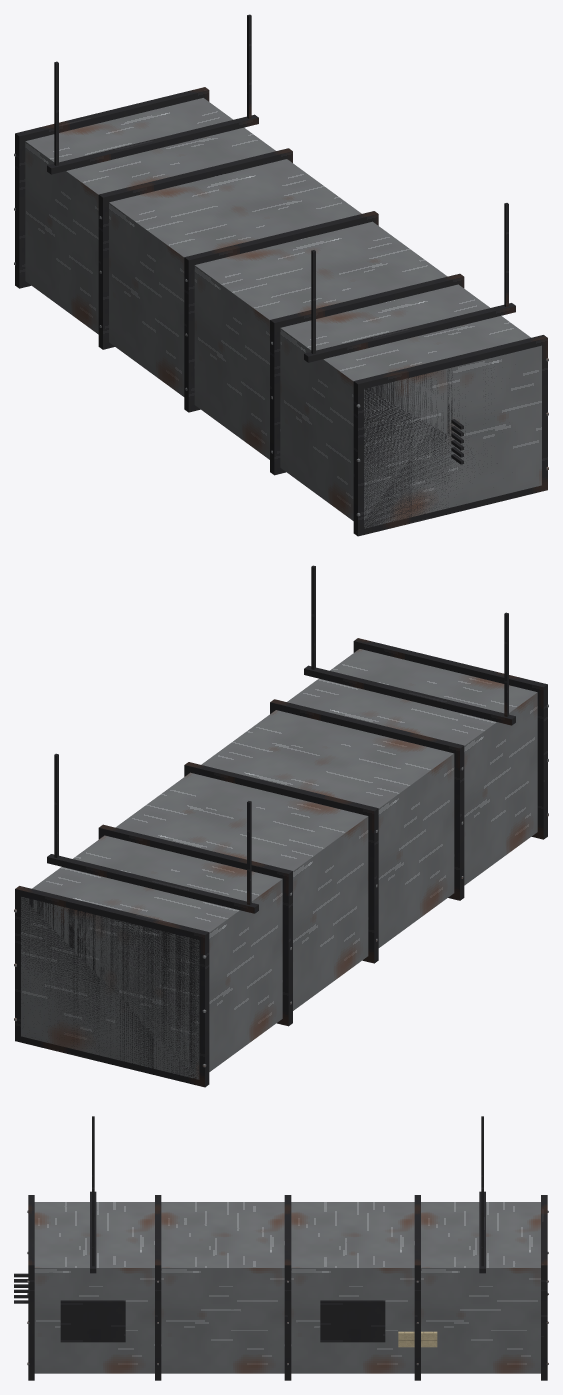
Rendered from vent_duct.glb.
3 views of the same model, one above another, from view 1: azimuth 30°, elevation 25°; view 2: azimuth 150°, elevation 25°; view 3: azimuth 270°, elevation 25° (orthographic). The views are drawn at different scales.
Visible parts, largest first — view 1: vent_duct; view 2: vent_duct; view 3: vent_duct.
Part boxes in pixels (left/top/right/bottom): vent_duct: left=14, top=14, right=548, bottom=536; vent_duct: left=14, top=565, right=548, bottom=1087; vent_duct: left=14, top=1116, right=548, bottom=1380.
Size of the model in its own units: 1.4 by 1.64 by 4.12.
4 materials, 3 textured.
